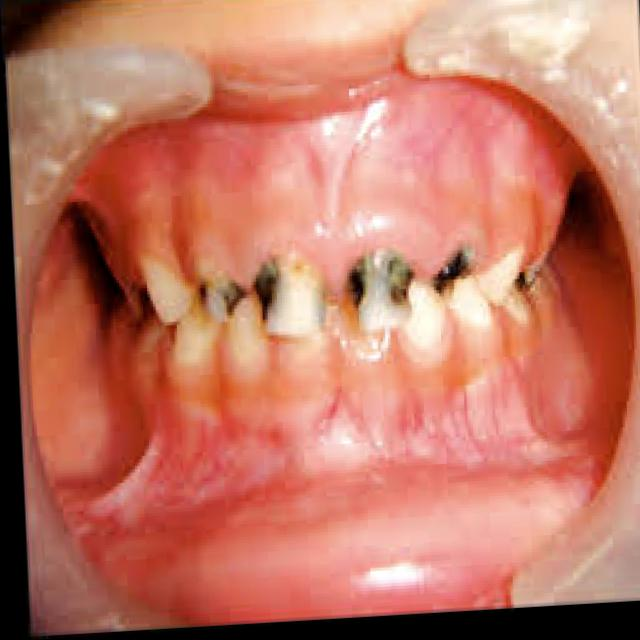cariess: (200, 265, 281, 316), (347, 257, 411, 308), (433, 266, 466, 290), (514, 265, 539, 288)
